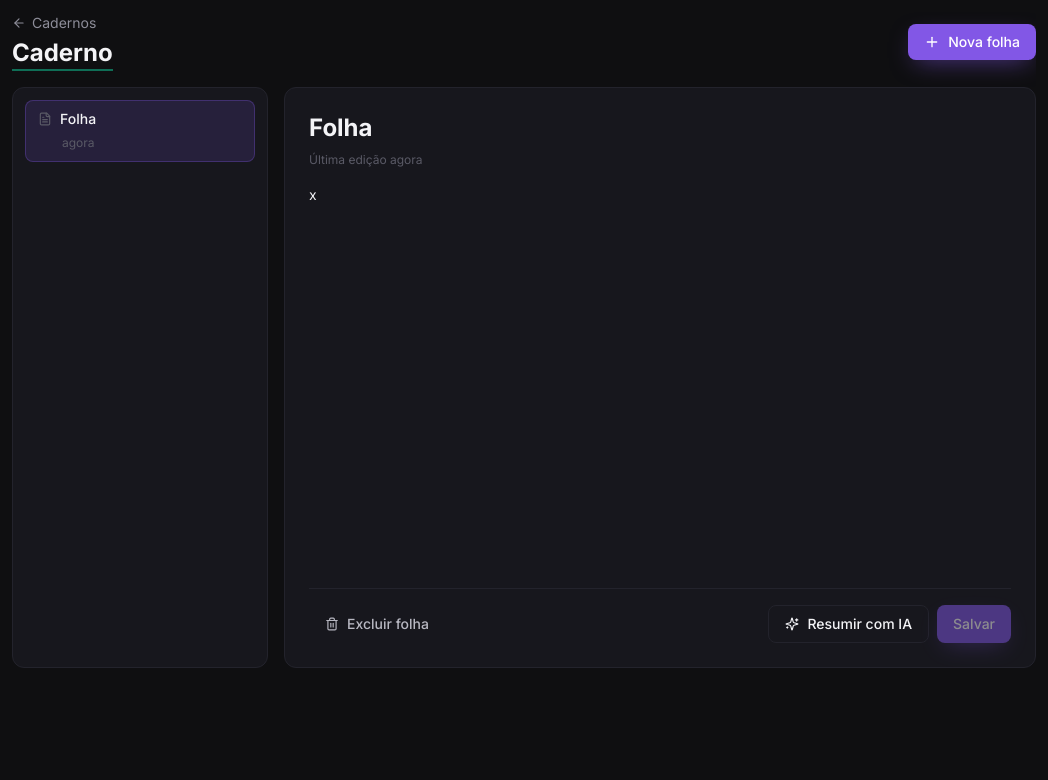
Test: NotebookDetailPage › botão Salvar fica desabilitado sem alterações e habilita ao editar
expect the field named "Título da folha" holds "Folha": met, box [309,112,1011,144]
expect the button "Salvar" is disabled: met, box [937,605,1011,643]
In the text box named "conteúdo da folha": coordinates (660, 378) [309,184,1011,572], type " mais"
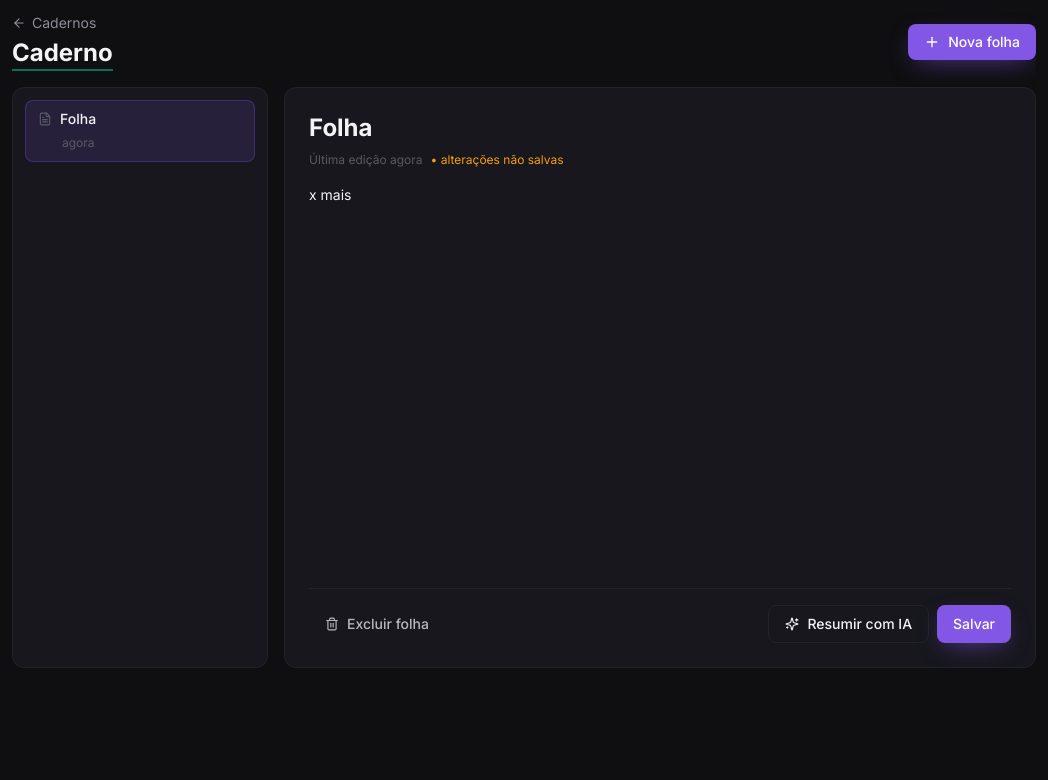
expect the button "Salvar" is enabled: met, box [937,605,1011,643]
expect the text "• alterações não salvas" is shown: met, box [431,152,564,167]
